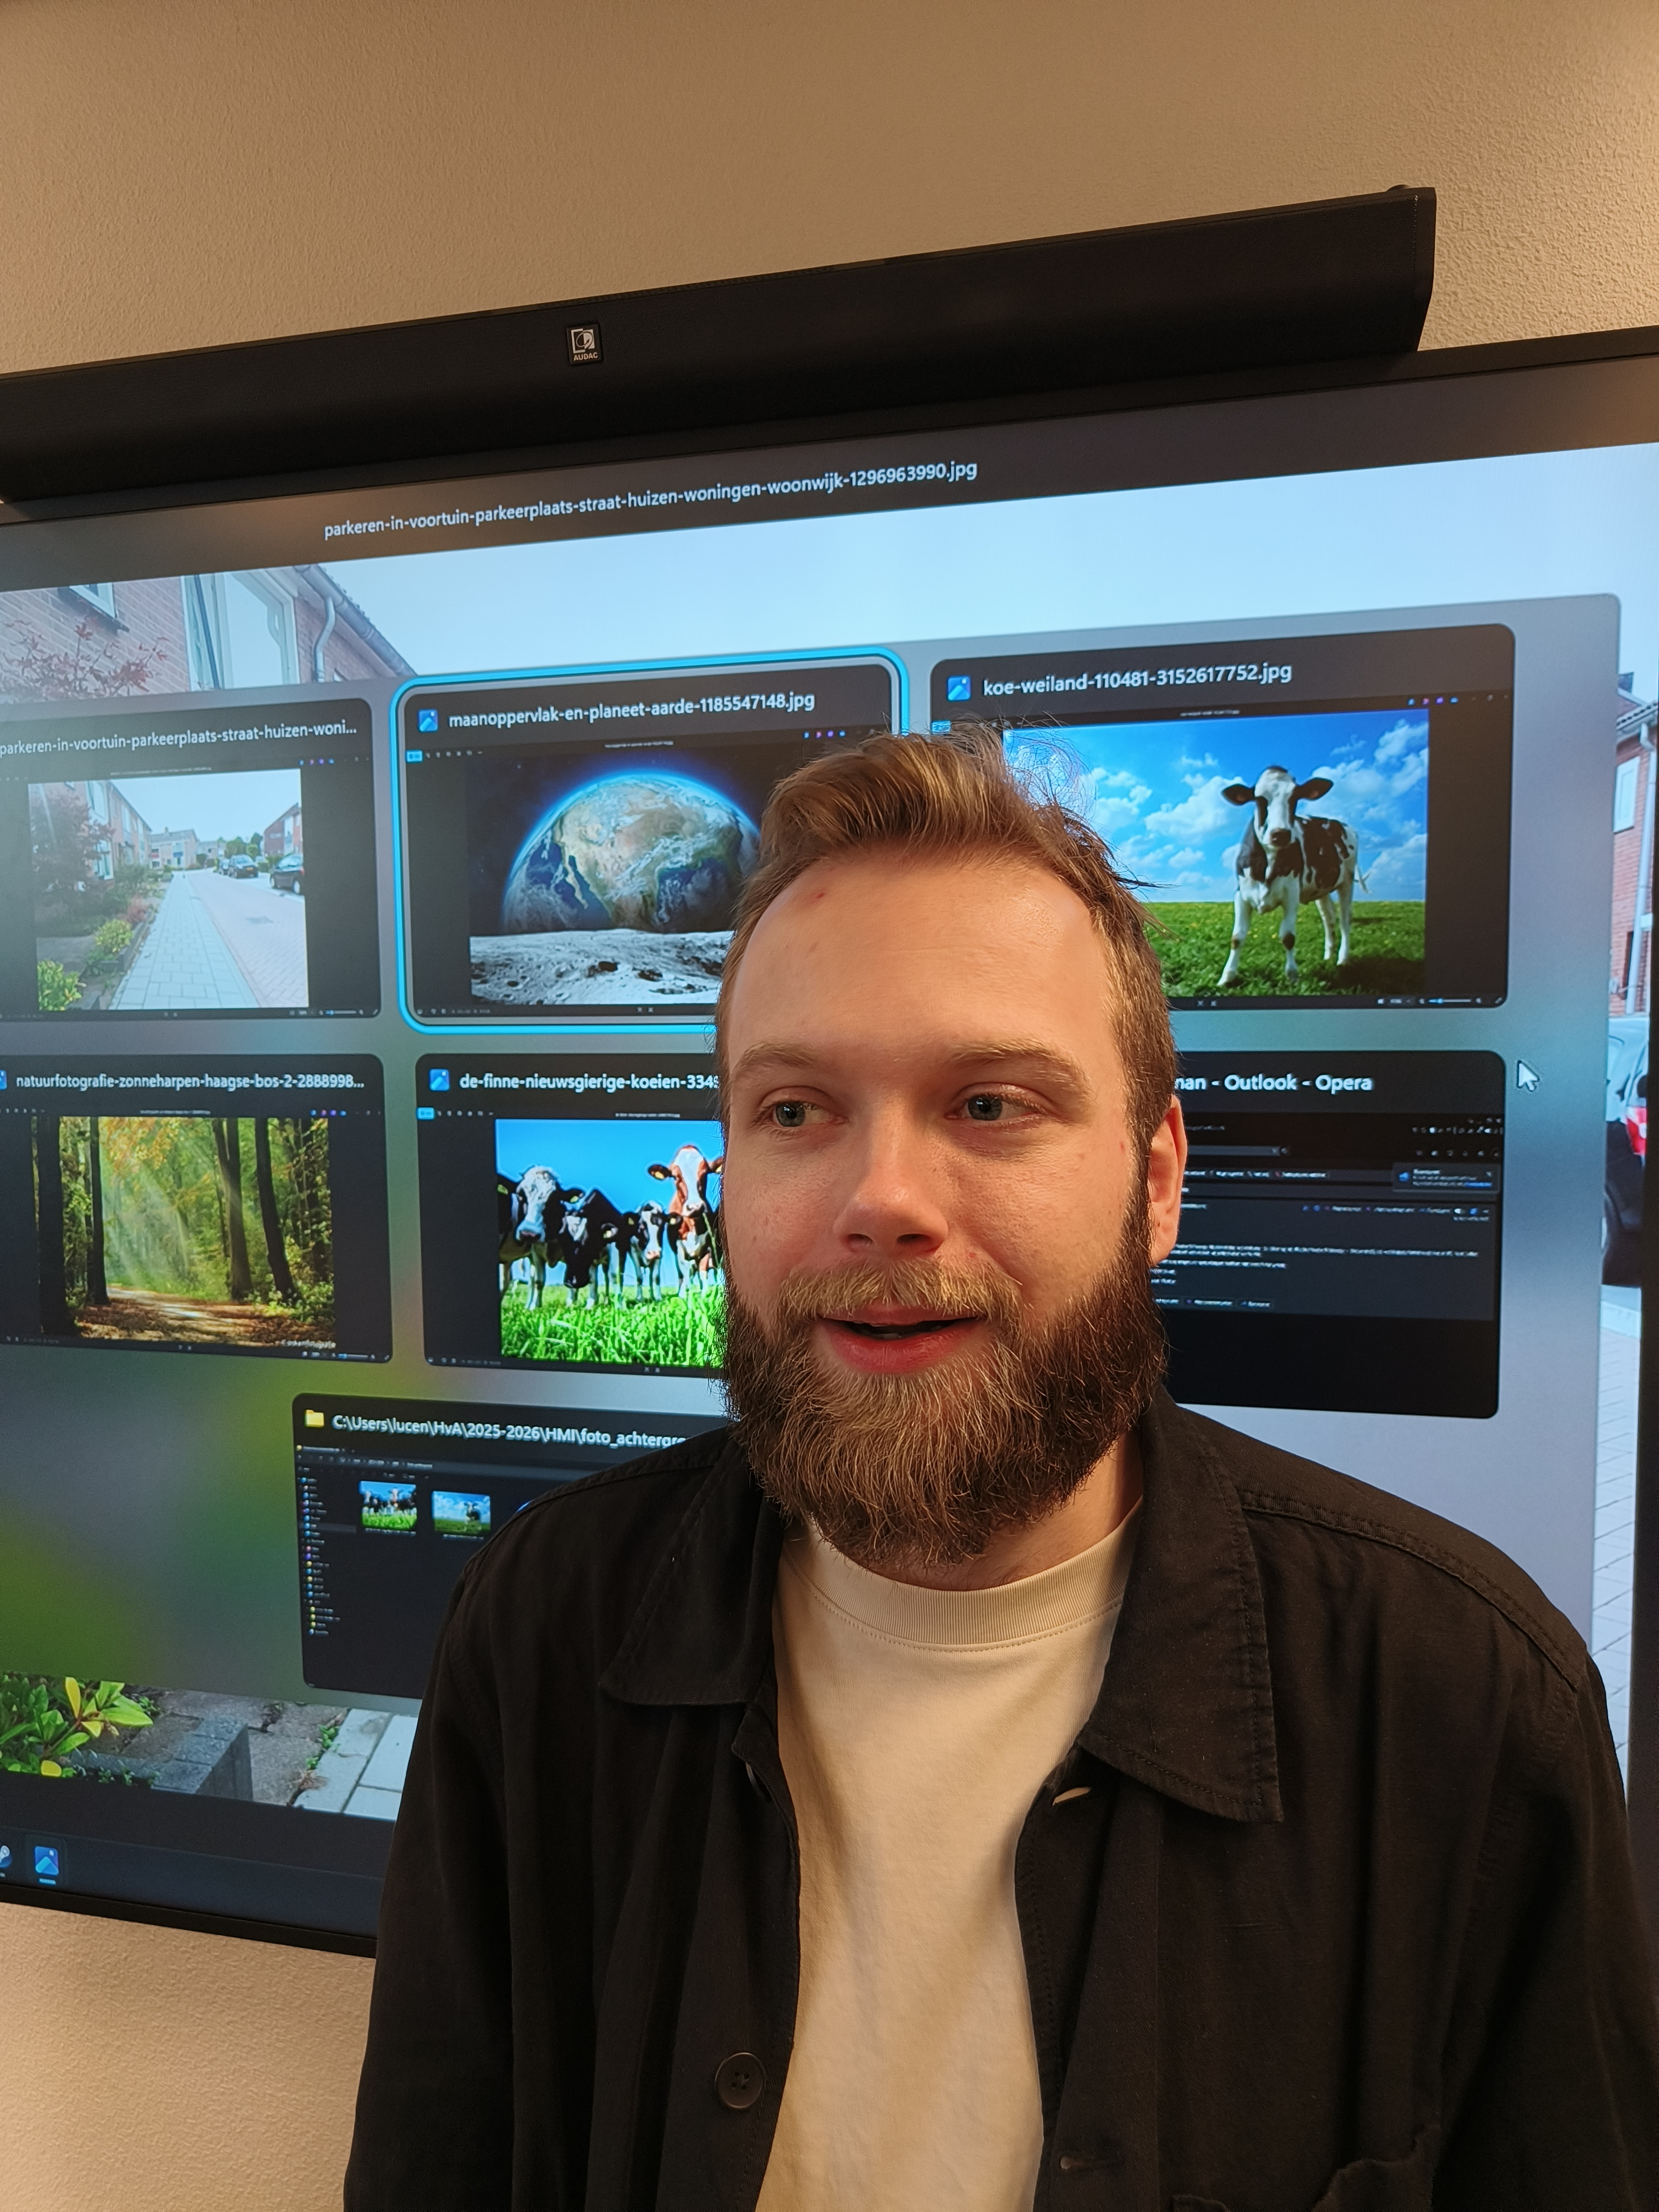face: (699, 765, 1146, 1457)
